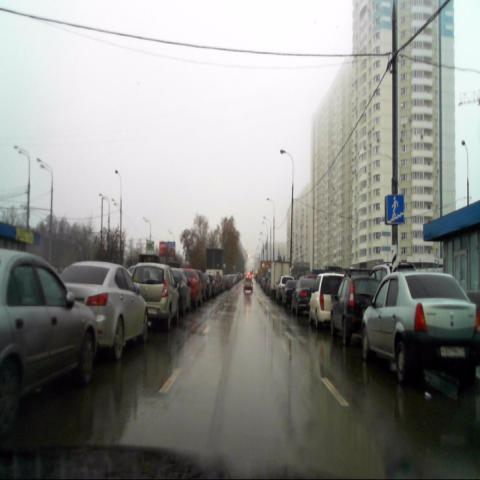6_6: (386, 195, 404, 224)
